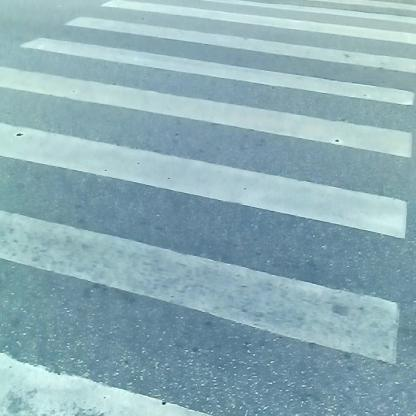crosswalk: (20, 9, 412, 407)
